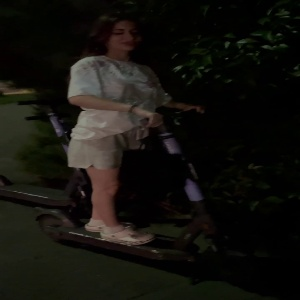human on a scooter: (30, 13, 261, 285)
